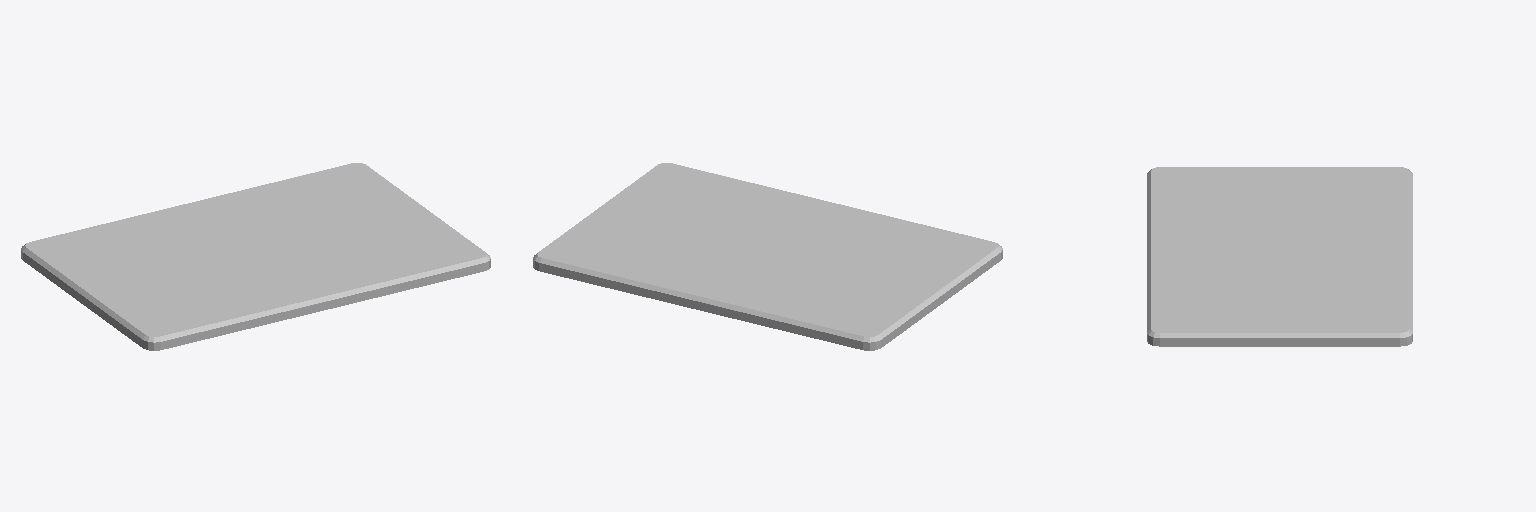
The model's file is rug.obj.
3 renders of one model, left to right at view 1: azimuth 30°, elevation 25°; view 2: azimuth 150°, elevation 25°; view 3: azimuth 270°, elevation 25°, orthographic.
Parts seen in each view (by area): view 1: rug; view 2: rug; view 3: rug.
Part boxes in pixels (left/top/right/bottom): rug: left=21, top=163, right=490, bottom=350; rug: left=533, top=163, right=1002, bottom=350; rug: left=1147, top=167, right=1412, bottom=346.
Size of the model in its own units: 3 by 0.1 by 2.